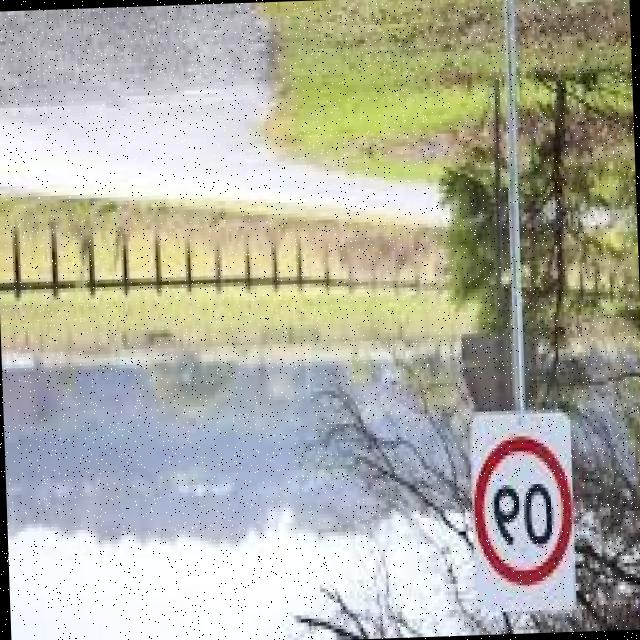speed_limit_60: (468, 425, 581, 604)
